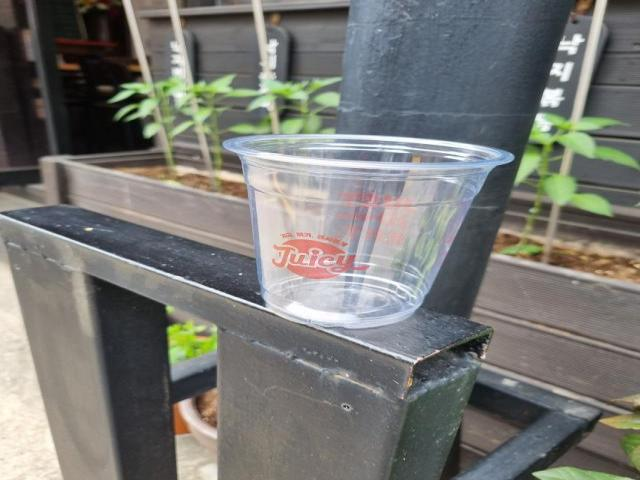cup: (214, 128, 520, 336)
